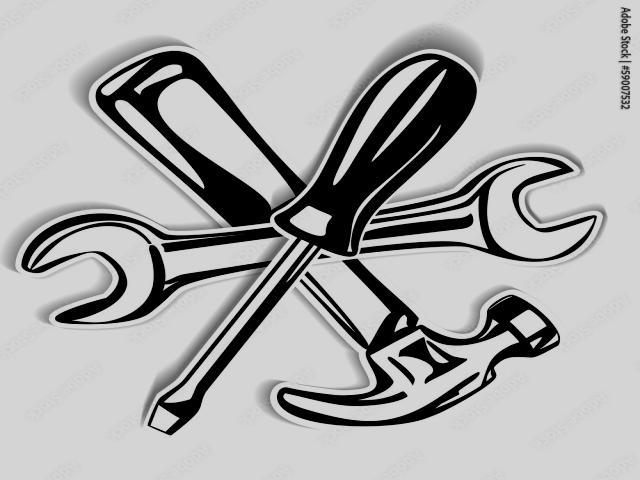Hammer: (89, 47, 560, 428)
Screwdriver: (148, 50, 478, 434)
Wrench: (14, 157, 599, 328)
